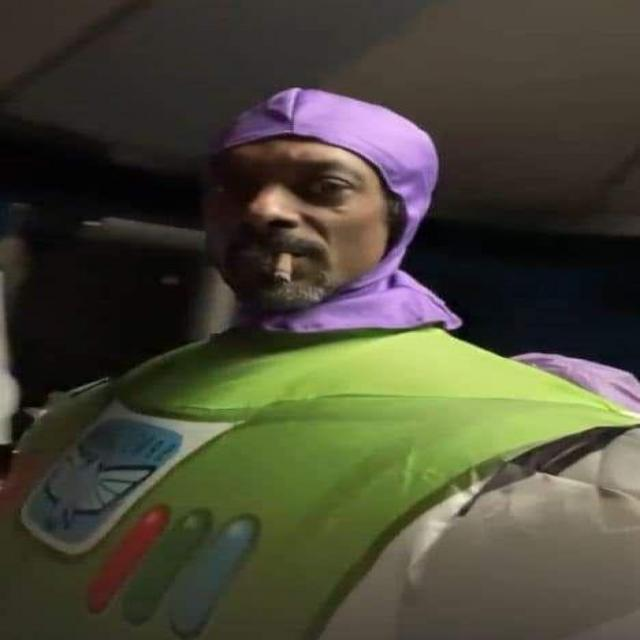cigarette: (253, 240, 315, 300)
